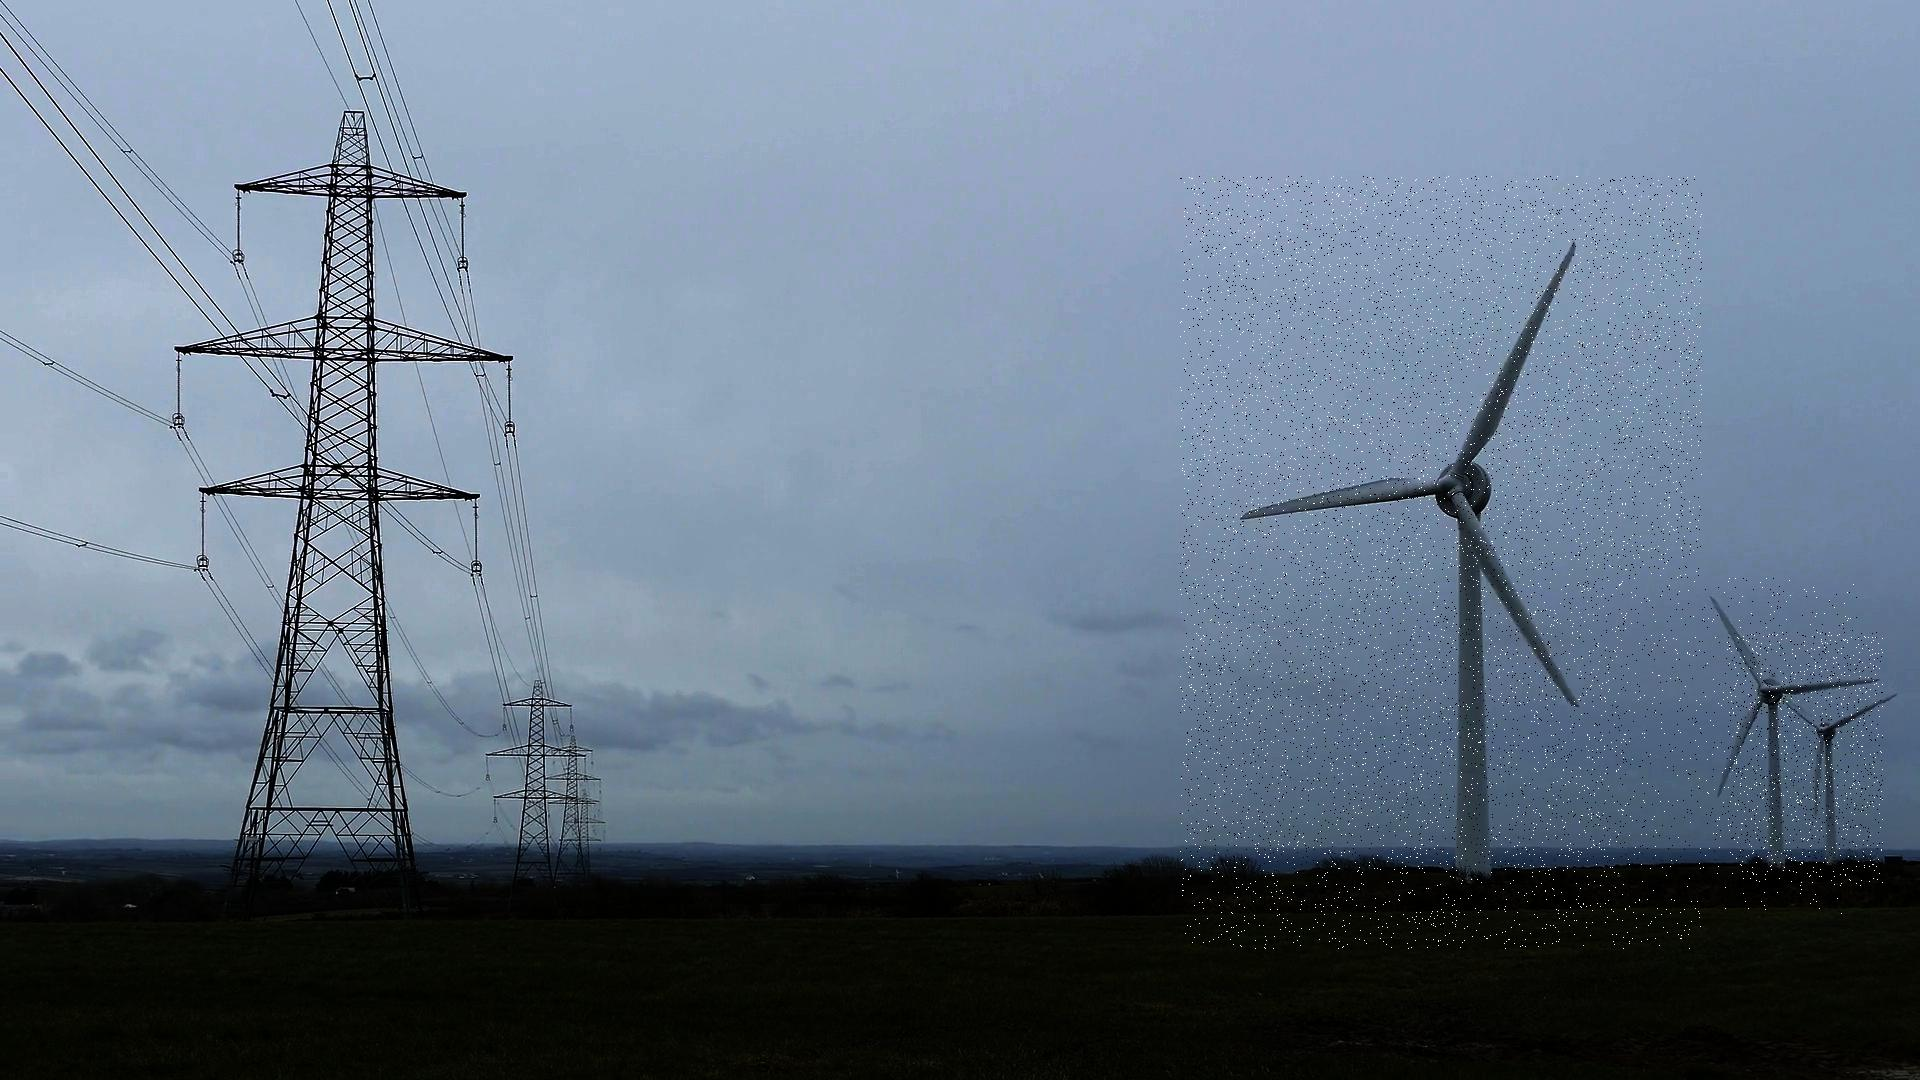cable tower: (171, 109, 513, 913), (483, 680, 587, 893), (546, 736, 603, 884), (562, 789, 604, 876)
turbine: (1180, 175, 1702, 949), (1627, 579, 1857, 918), (1727, 633, 1883, 887)
